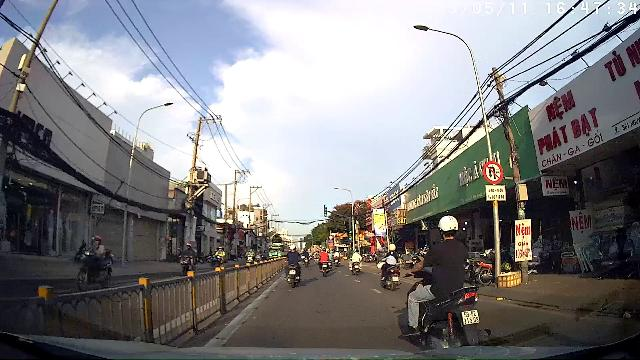124b-cam-oto-quay-dau-xe: (484, 160, 504, 184)
